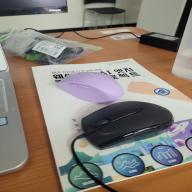mouse: (80, 101, 174, 151), (56, 70, 125, 105)
